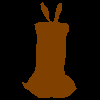vestito: (22, 2, 76, 98)
